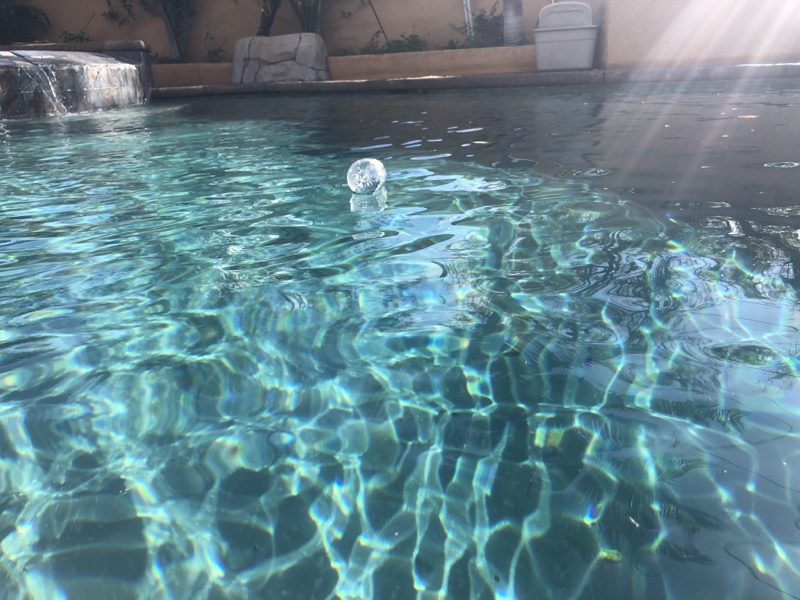Plastic Bottle: (343, 152, 390, 198)
